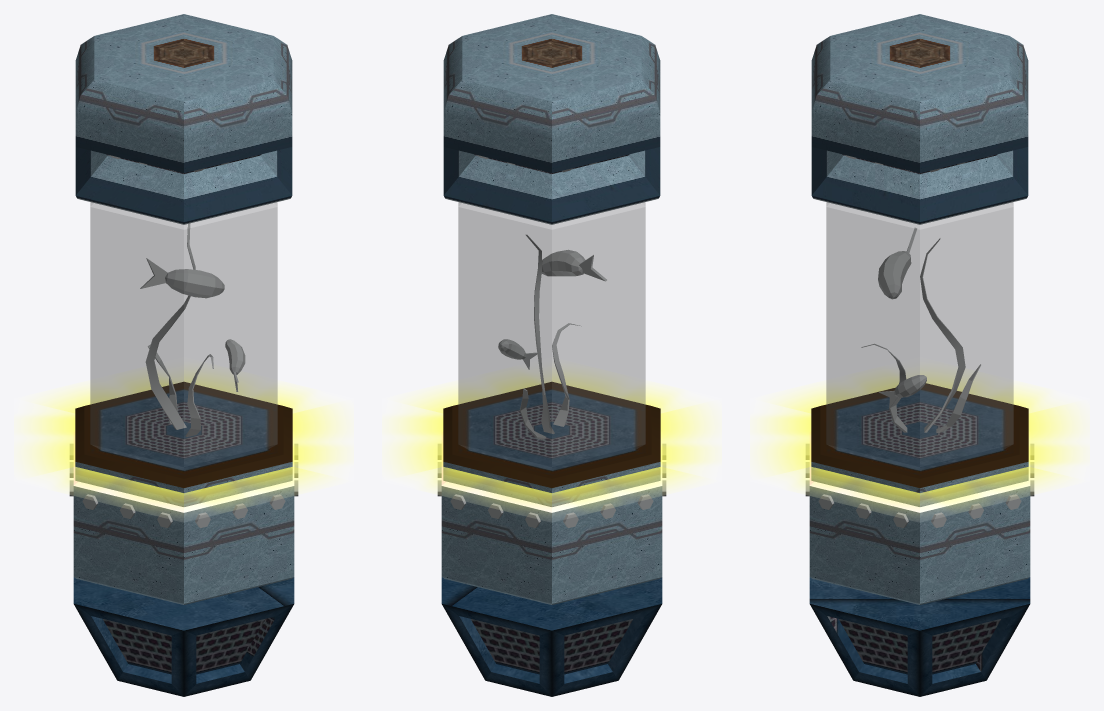
File: entity5458.gltf
3 views of the same model, side by side, from view 1: azimuth 30°, elevation 25°; view 2: azimuth 150°, elevation 25°; view 3: azimuth 270°, elevation 25° (orthographic).
Parts seen in each view (by area): view 1: node_Mesh_fish_tank_01; view 2: node_Mesh_fish_tank_01; view 3: node_Mesh_fish_tank_01.
Boxes of the visible parts, x1=… form: node_Mesh_fish_tank_01: x1=14, y1=14, x2=353, y2=696; node_Mesh_fish_tank_01: x1=382, y1=14, x2=721, y2=696; node_Mesh_fish_tank_01: x1=750, y1=14, x2=1089, y2=696.
Size of what is drawn, in the model's own units: 3.07 by 5.29 by 2.66.
Materials: 7 (4 with a texture image).
